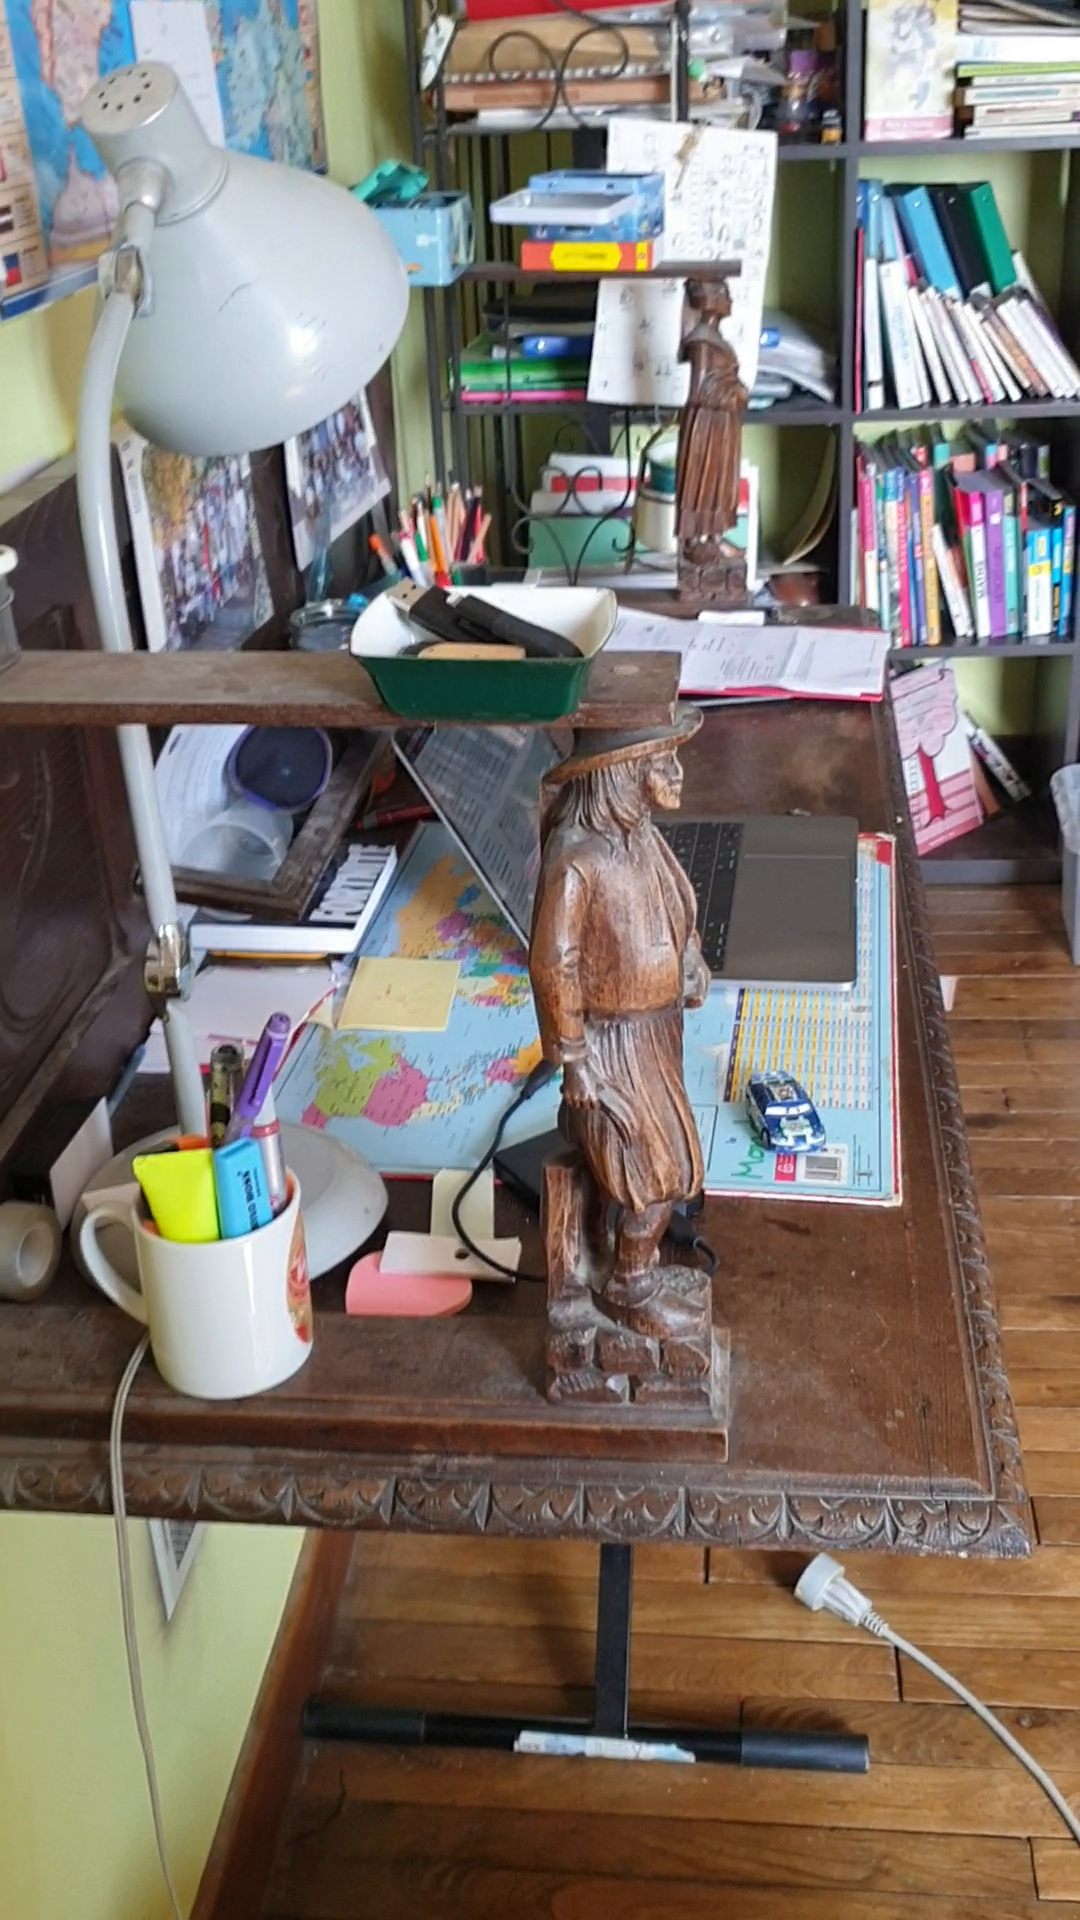cars: (742, 1069, 825, 1153)
